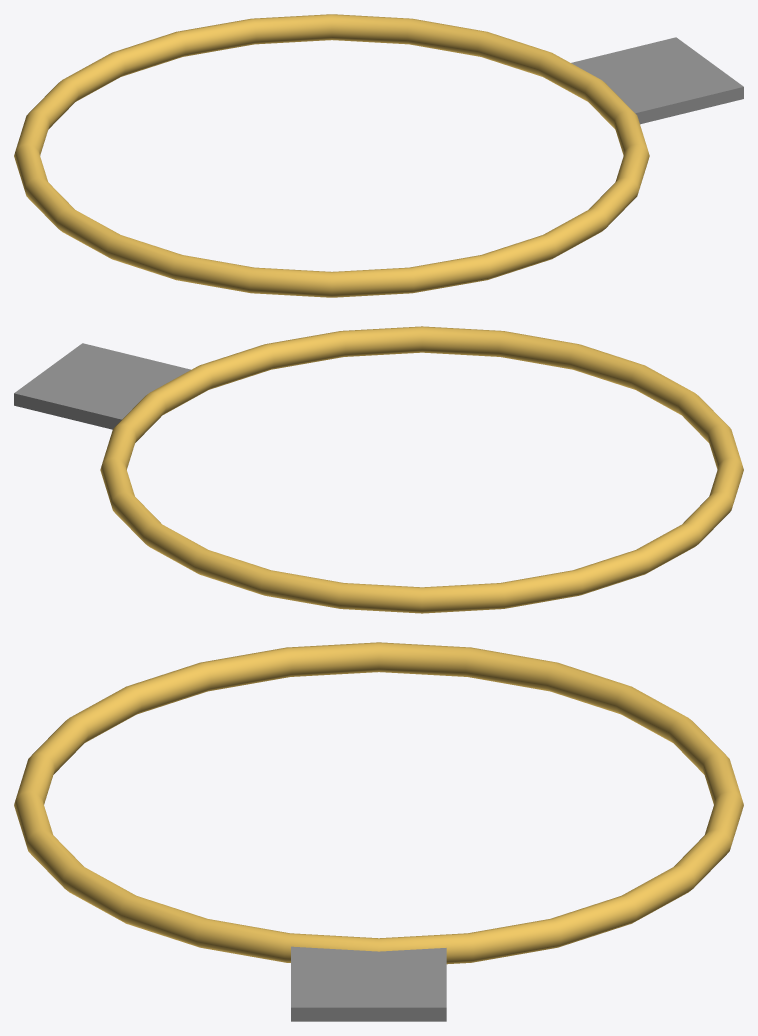
File: FinalRingFix.FBX
3 views of the same model, one above another, from view 1: azimuth 30°, elevation 25°; view 2: azimuth 150°, elevation 25°; view 3: azimuth 270°, elevation 25° (orthographic). The views are drawn at different scales.
Parts seen in each view (by area): view 1: Torus002, Box001; view 2: Torus002, Box001; view 3: Torus002, Box001.
Part boxes in pixels (<box>): Torus002: <box>14,14,649,297</box>; Box001: <box>571,37,743,124</box>; Torus002: <box>100,326,743,613</box>; Box001: <box>14,343,190,429</box>; Torus002: <box>14,642,743,964</box>; Box001: <box>291,946,446,1021</box>.
Size of the model in its own units: 109 by 3.78 by 92.39.
